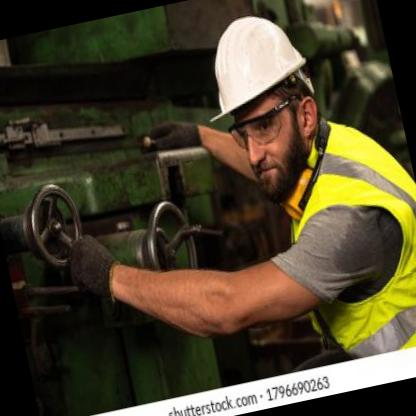Gloves: (61, 224, 126, 312), (148, 112, 204, 156)
